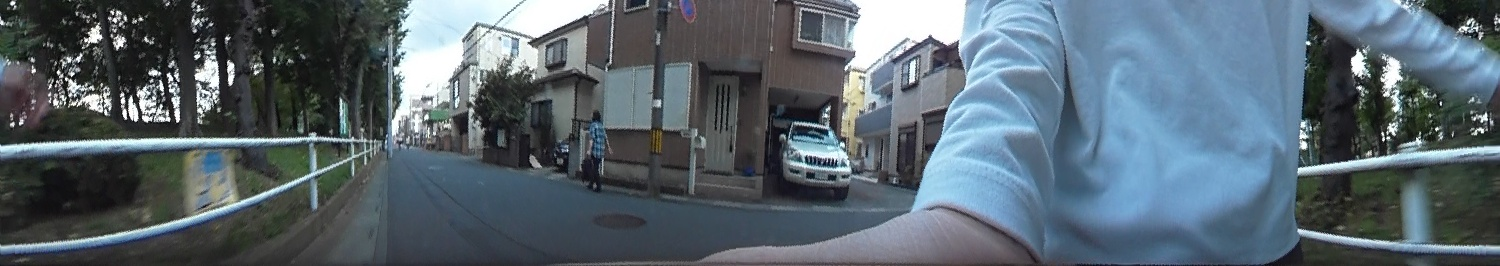person: (578, 108, 611, 196)
